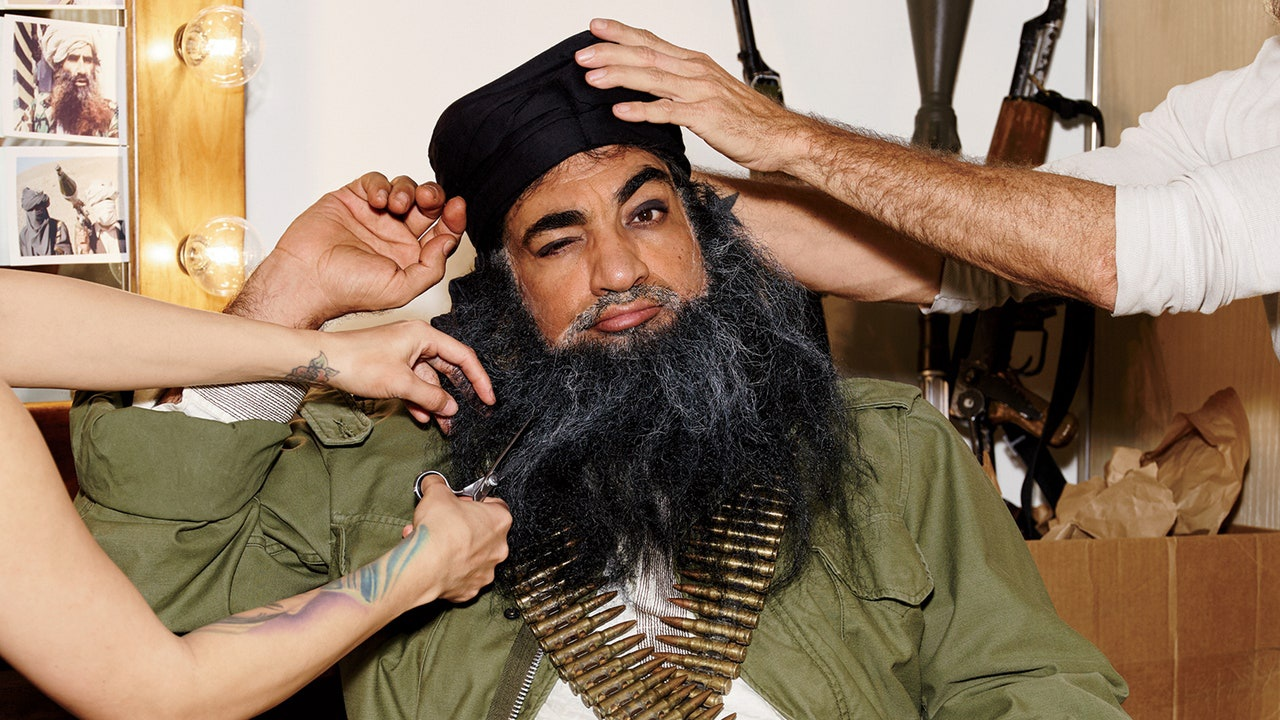bad: (513, 167, 736, 390), (61, 50, 97, 86)
